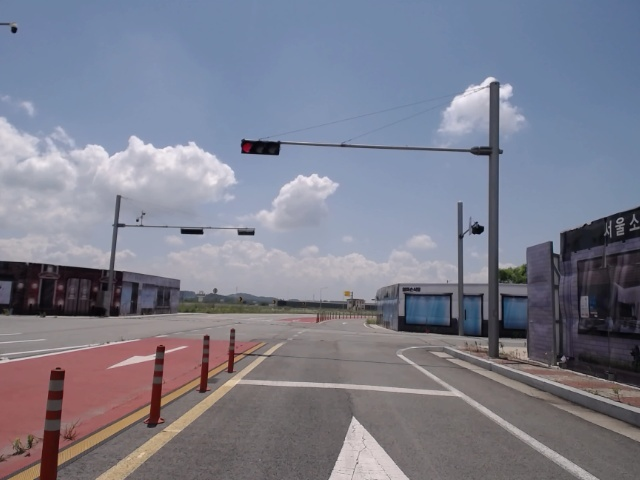red_3: (240, 141, 280, 155)
